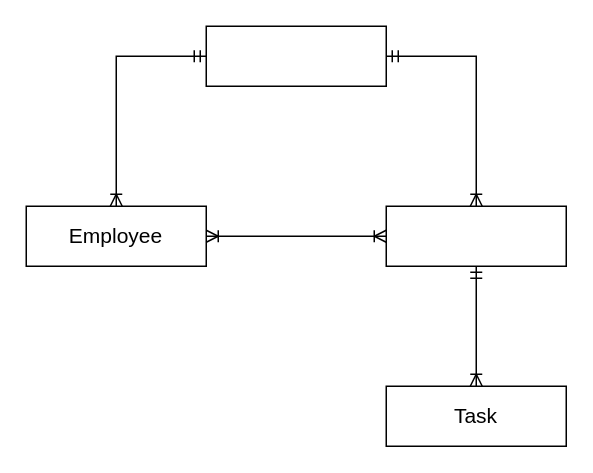
This 593x473 diagram has some shape labels left out. Each missing label, with the centre of its shape:
"Company" belongs at point 295,55.
"Project" belongs at point 475,235.
